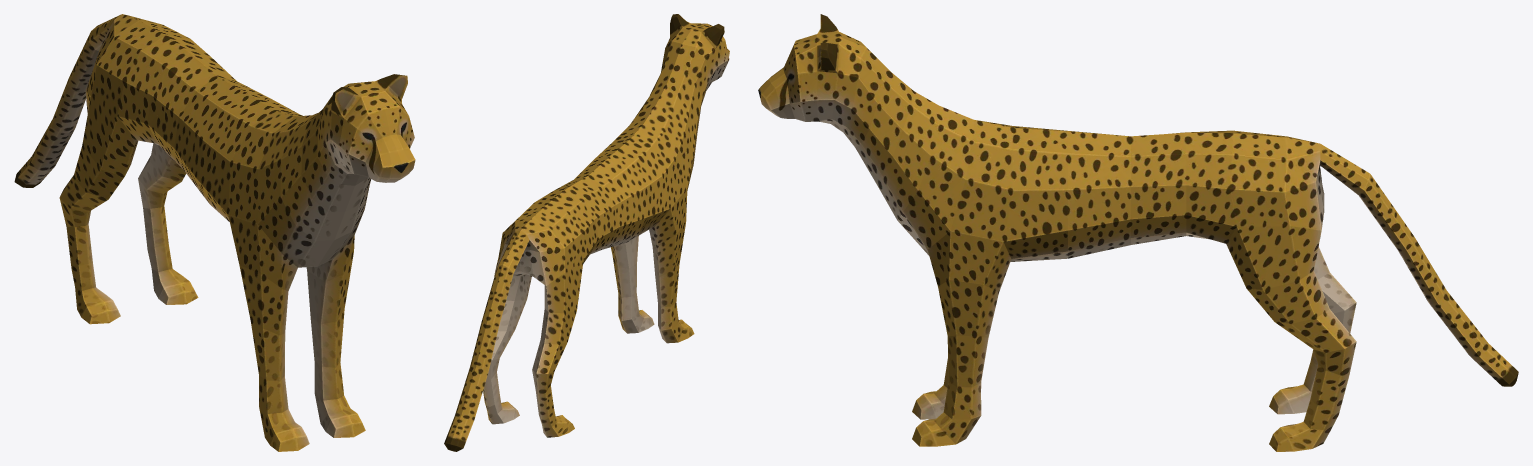
Rendered from cheetah.glb.
3 renders of one model, left to right at view 1: azimuth 30°, elevation 25°; view 2: azimuth 150°, elevation 25°; view 3: azimuth 270°, elevation 25°, orthographic. The views are drawn at different scales.
Visible parts, largest first — view 1: Cheetah_mesh; view 2: Cheetah_mesh; view 3: Cheetah_mesh.
Boxes of the visible parts, x1,y1,x2,y2 form: Cheetah_mesh: (14, 14, 415, 451); Cheetah_mesh: (444, 14, 729, 451); Cheetah_mesh: (758, 14, 1518, 451).
Size of the model in its own units: 0.2303 by 0.8 by 1.39.
1 material, 1 textured.
